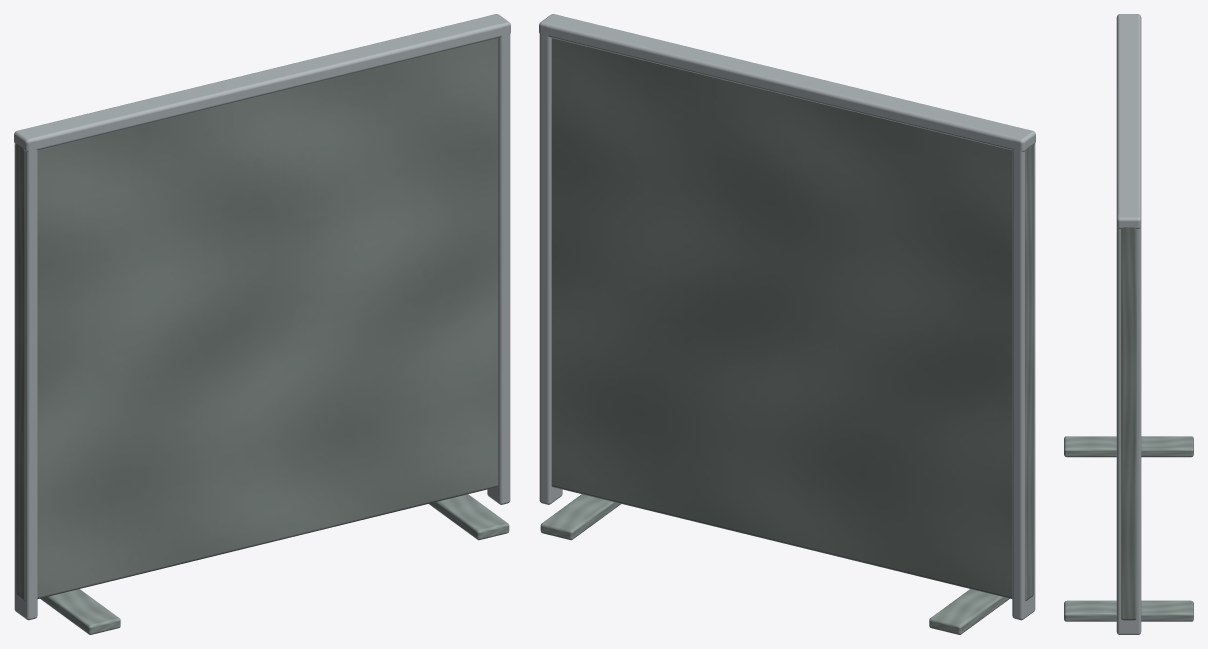
File: liminal-spaces-kit-cubicle-wall-76015f38__25240.glb
The picture shows the model from 3 angles, left to right: view 1: azimuth 30°, elevation 25°; view 2: azimuth 150°, elevation 25°; view 3: azimuth 270°, elevation 25°; orthographic projection. The views are drawn at different scales.
Parts seen in each view (by area): view 1: cubicle-wall; view 2: cubicle-wall; view 3: cubicle-wall.
Part boxes in pixels (x1,y1,x2,y2): cubicle-wall: (14, 14, 510, 634); cubicle-wall: (539, 14, 1035, 634); cubicle-wall: (1064, 14, 1193, 634).
Bounding box in the file's own units: 1.5 × 1.42 × 0.4.
3 materials, 2 textured.
